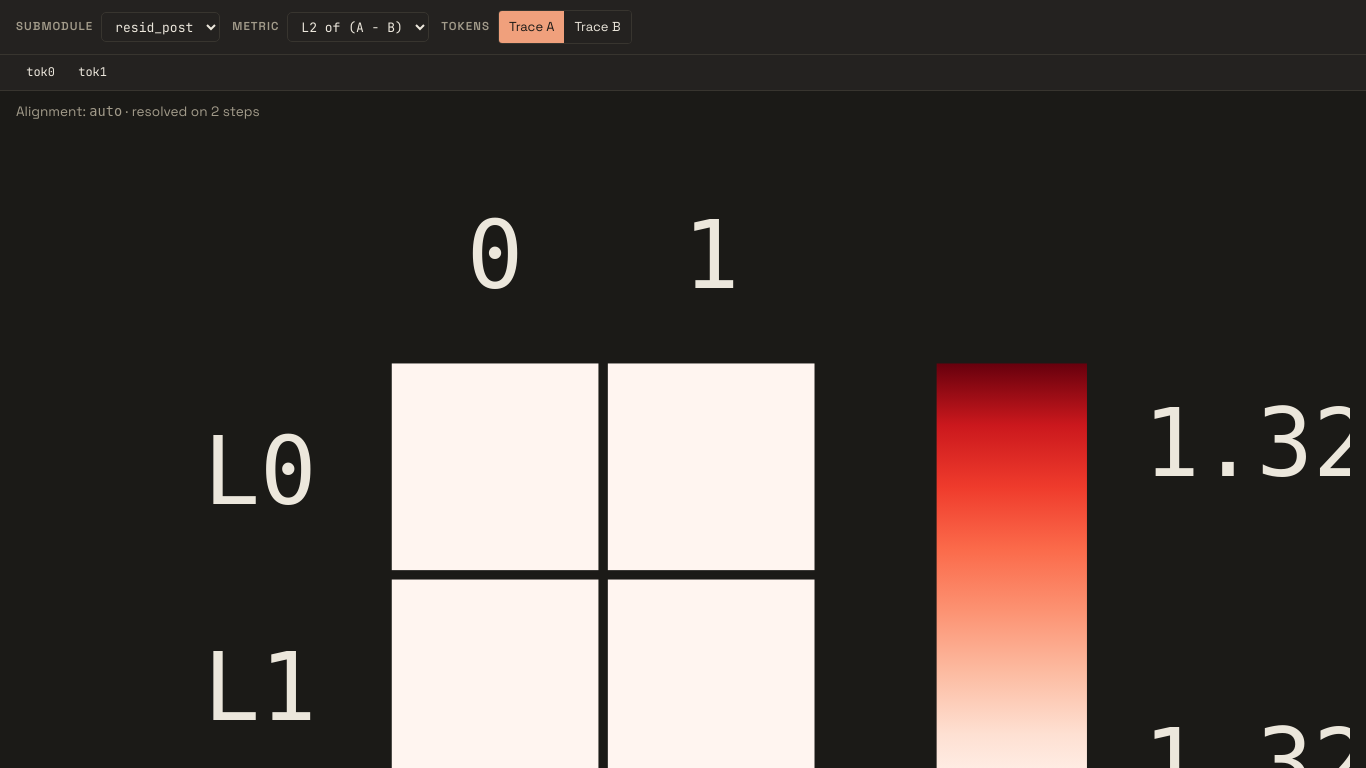
Scenario: DiffView › token strip toggles between trace A and trace B tokens
The image size is (1366, 768).
Check: the button with test id "generated-token-0" reads "tok0", box [12, 61, 62, 84]
Click the button with test id "diff-token-side-b".
click(598, 27)  # box [564, 11, 630, 43]
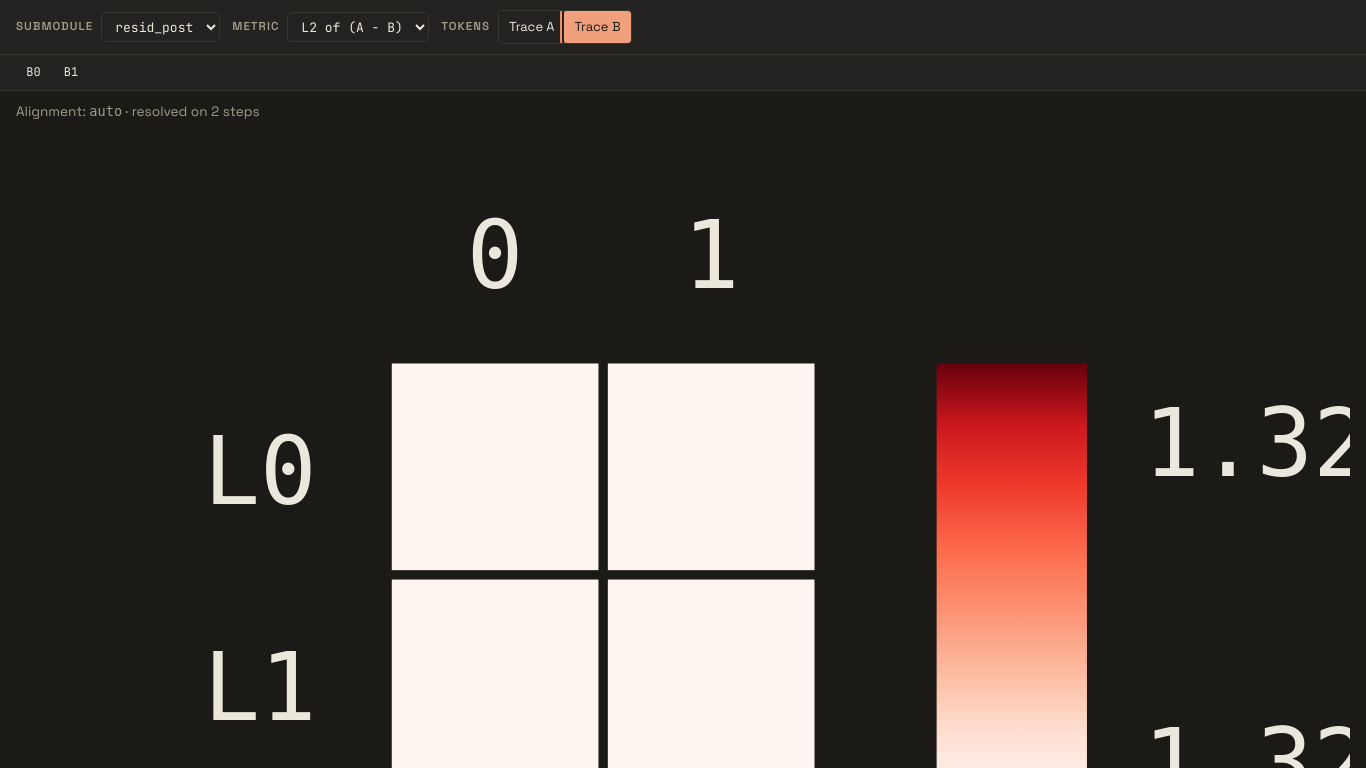
Check: the button with test id "generated-token-0" reads "B0", box [12, 61, 48, 84]
Click the button with test id "diff-token-side-a".
click(532, 27)  # box [499, 11, 564, 43]
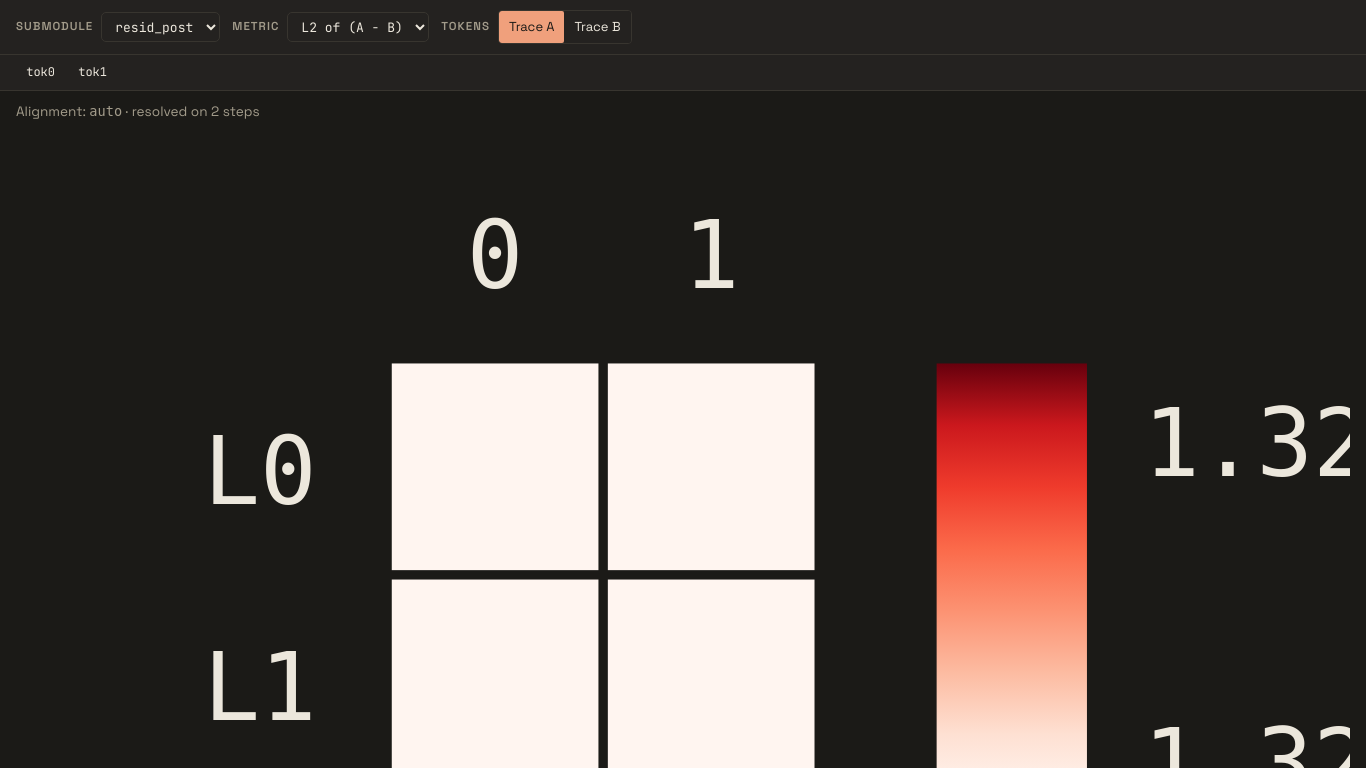
Check: the button with test id "generated-token-0" reads "tok0", box [12, 61, 62, 84]
